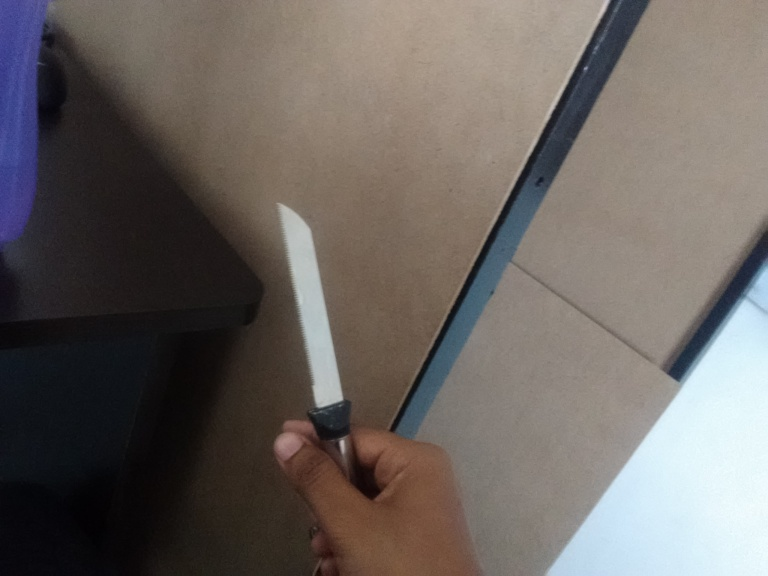knife: (275, 201, 353, 417)
